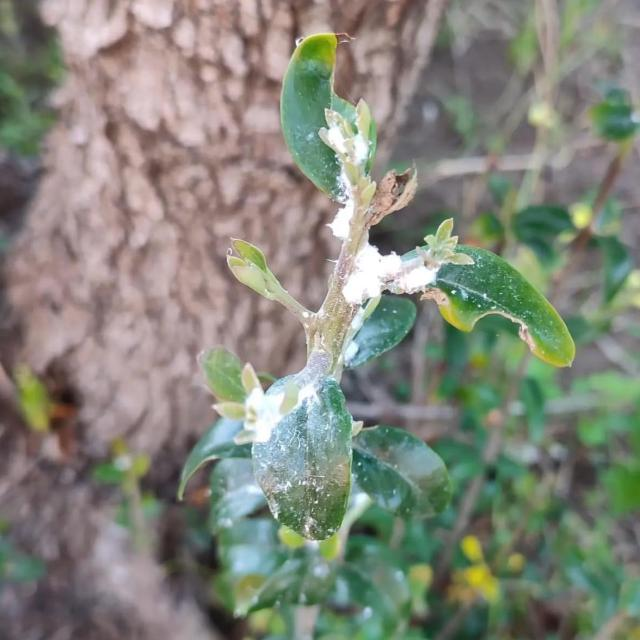Psyllid: (253, 377, 352, 540), (343, 218, 474, 305), (213, 349, 331, 444), (318, 94, 376, 205), (328, 206, 351, 240)
